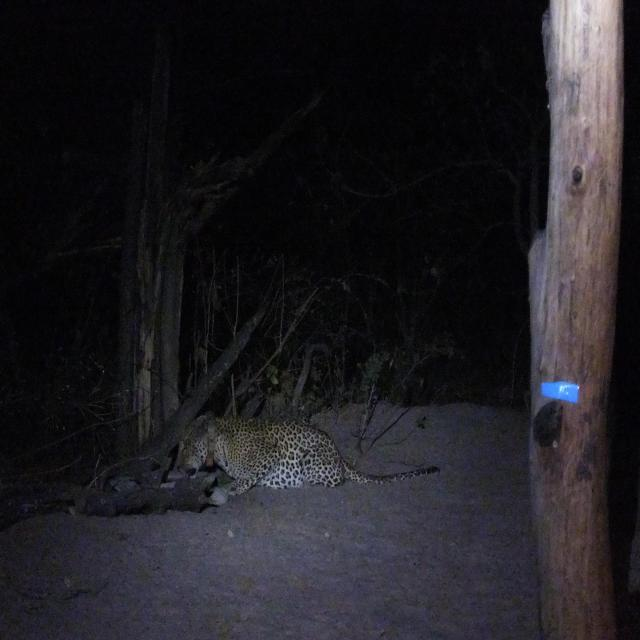Leopard: (177, 412, 449, 498)
